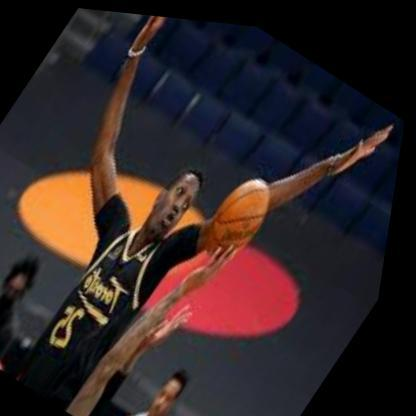basketball: (198, 159, 292, 268)
